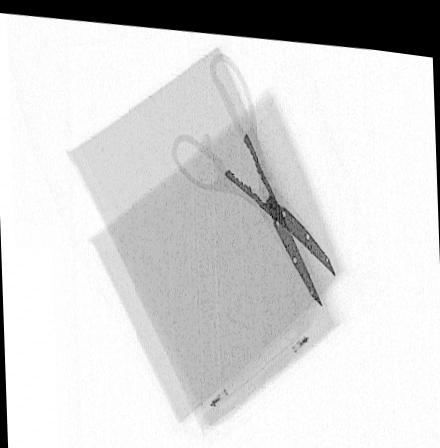Scissors: (170, 42, 337, 297)
